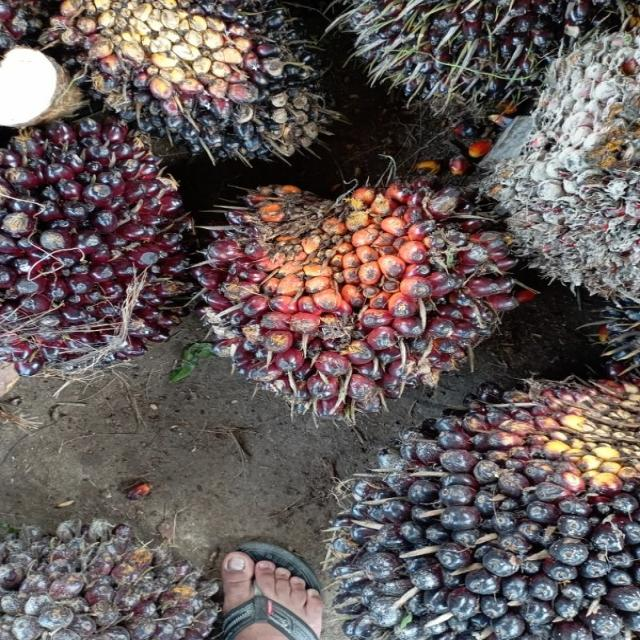fraksi 00: (325, 359, 639, 640), (55, 0, 336, 164)
fraksi 1: (0, 123, 203, 384)
fraksi 3: (193, 185, 522, 407)
